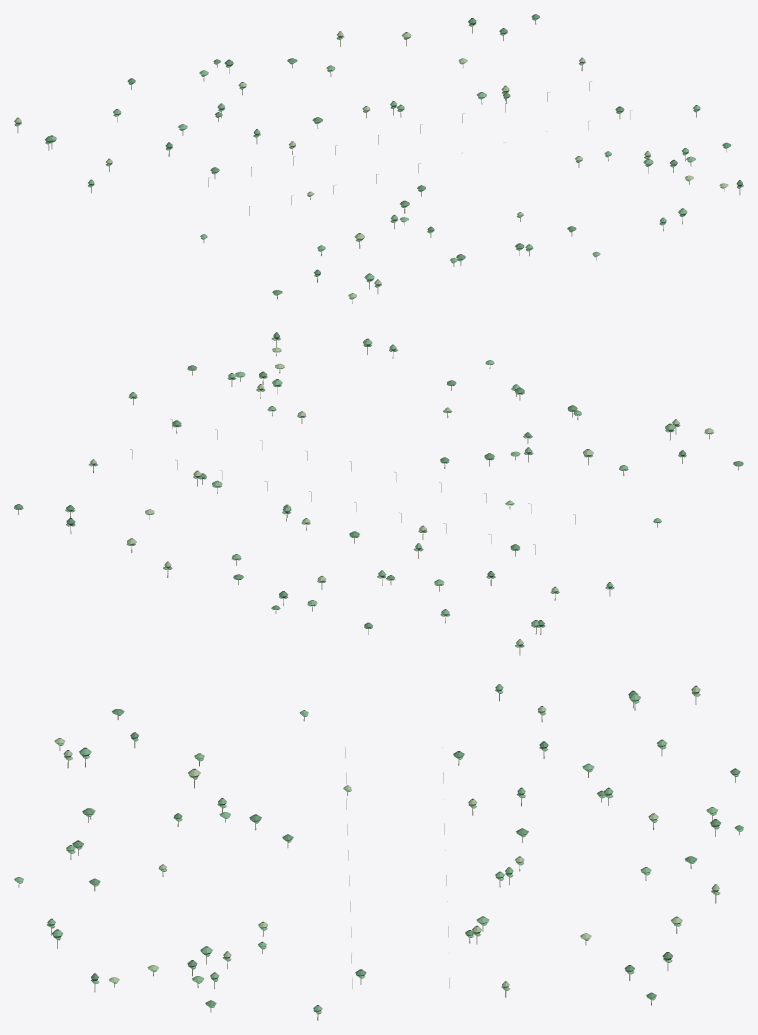
The picture shows the model from 3 angles, top to bottom: view 1: azimuth 30°, elevation 25°; view 2: azimuth 150°, elevation 25°; view 3: azimuth 270°, elevation 25°; orthographic projection. The views are drawn at different scales.
Parts seen in each view (by area): view 1: Uttara South neighborhood furniture (approximate); view 2: Uttara South neighborhood furniture (approximate); view 3: Uttara South neighborhood furniture (approximate).
Part boxes in pixels (box(x1,y1,x2,y2)): Uttara South neighborhood furniture (approximate): box(14, 14, 743, 303); Uttara South neighborhood furniture (approximate): box(14, 332, 743, 655); Uttara South neighborhood furniture (approximate): box(14, 684, 743, 1020).
Bounding box in the file's own units: 442 × 12.14 × 421.
